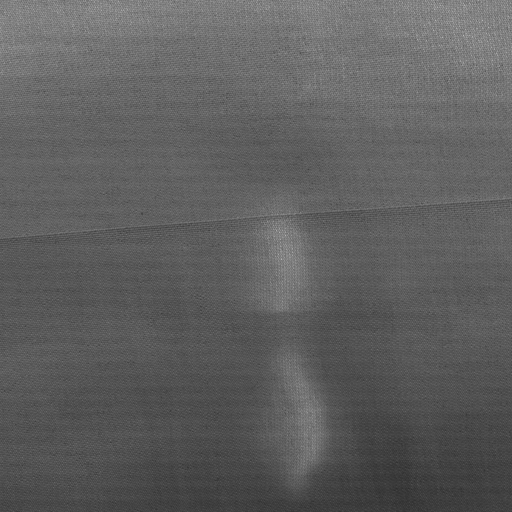defect: (2, 195, 512, 258)
